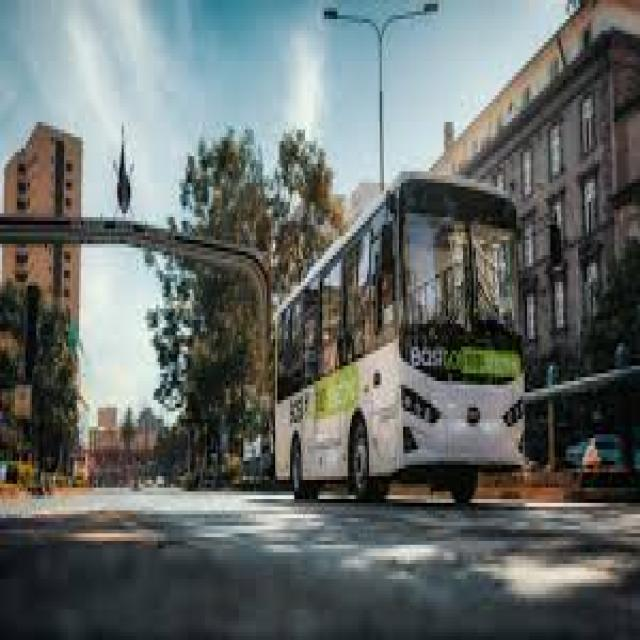bus: (259, 142, 574, 549)
